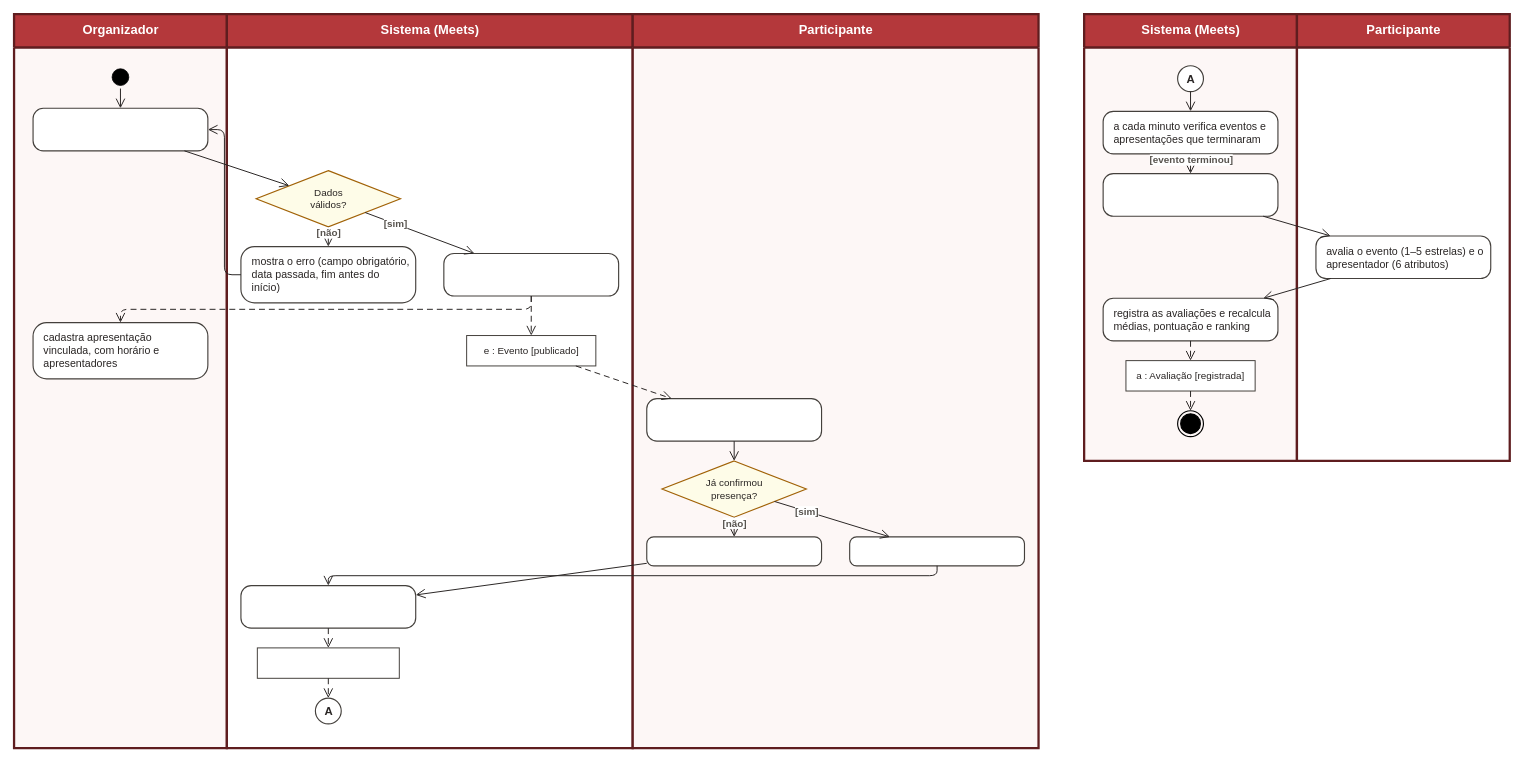
The diagram is 1524 pixels wide and 762 high, and some of its shapes have lost their labels. Each missing label, with the centre of its shape:
confirma presença: [734,551]
envia lembrete de avaliação a quem participou: [1190,194]
p : Participação [confirmada]: [327,662]
pode cancelar a presença: [937,551]
preenche título, descrição, data, início, fim, local e visibilidade: [120,129]
publica o evento e registra o organizador como host: [531,274]
registra ou cancela a presença e avisa o organizador: [328,606]
vê o evento no feed; curte, comenta ou compartilha: [734,419]
